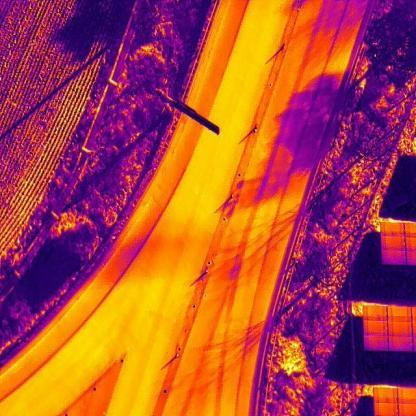Normal: (386, 306, 413, 323), (362, 304, 388, 321), (388, 322, 414, 338), (363, 320, 388, 336), (374, 388, 398, 404), (388, 337, 414, 351), (364, 337, 389, 351), (380, 223, 404, 237), (381, 237, 405, 251), (383, 251, 407, 265), (374, 403, 398, 416)
